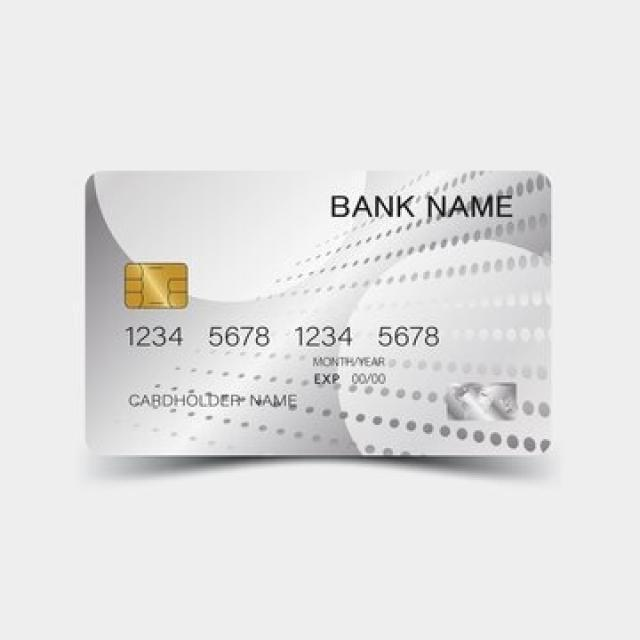payment_card: (83, 167, 554, 459)
